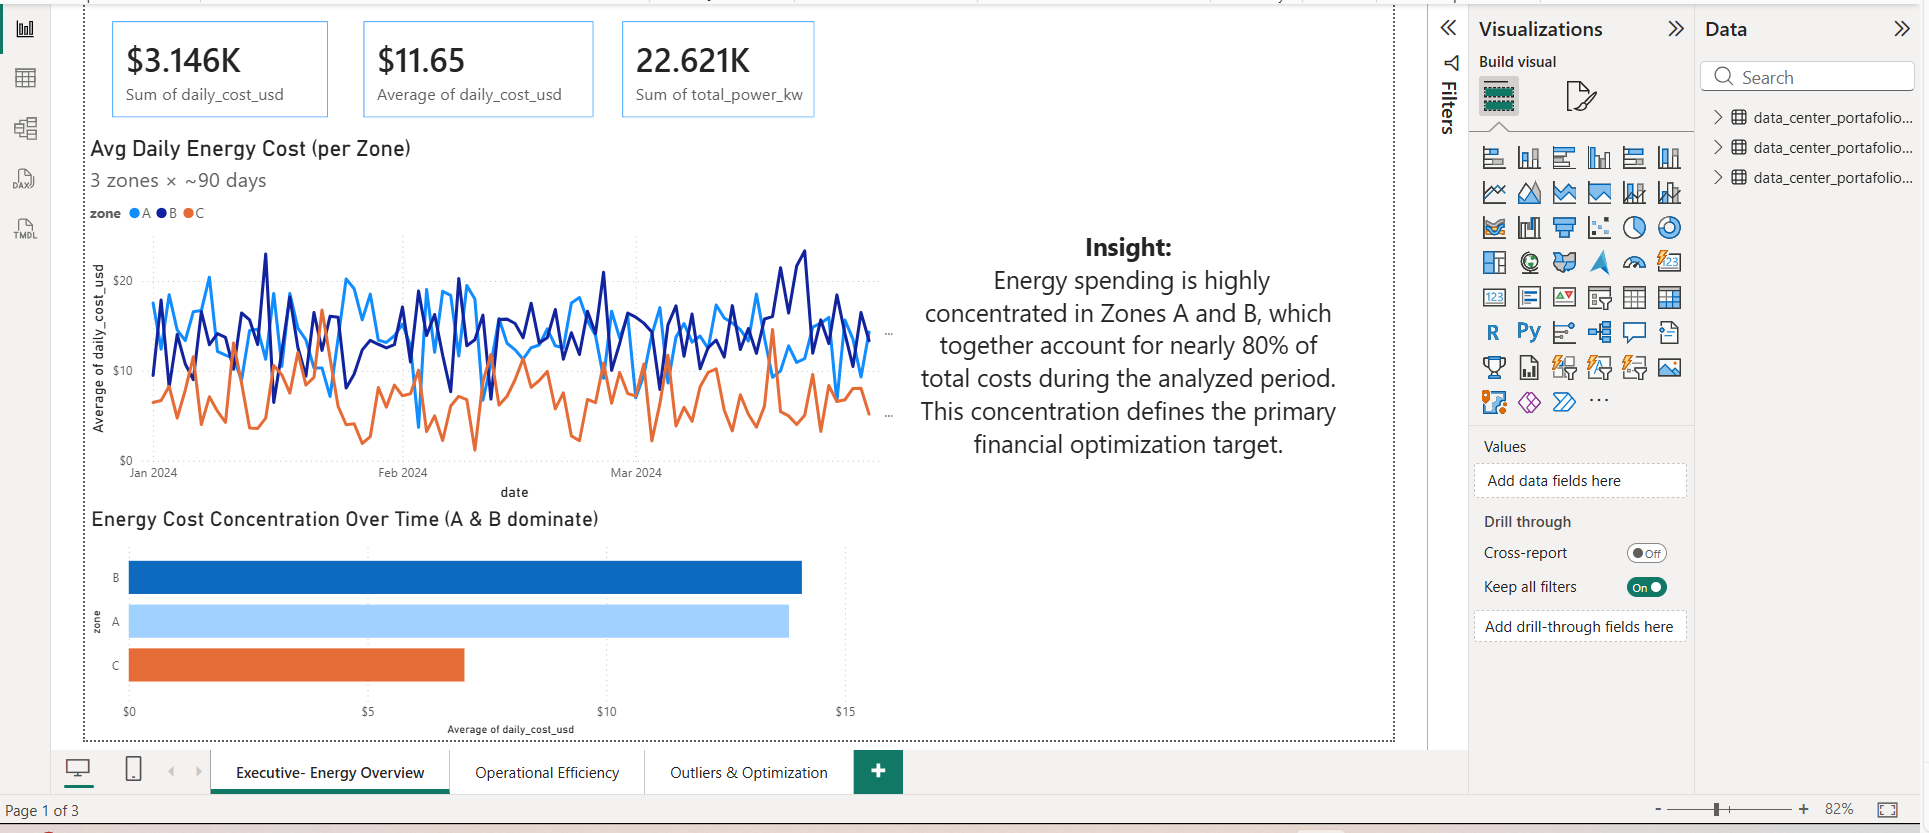

The page's visual inventory and layout, read from the dashboard file:
{"tool":"powerbi","page":{"name":"Executive- Energy Overview","canvas":[1280,720],"ordinal":0},"visuals":[{"type":"cardVisual","fields":{"Data":["Sum(data_center_portafolio vw_kpi_daily_energy_cost.daily_cost_usd)"]},"box":[9.6,0,245.6,129],"z":0},{"type":"cardVisual","fields":{"Data":["Avg(data_center_portafolio vw_kpi_daily_energy_cost.daily_cost_usd)"]},"box":[255.2,0,259.3,129],"z":1000},{"type":"cardVisual","fields":{"Data":["Sum(data_center_portafolio vw_kpi_daily_energy_cost.total_power_kw)"]},"box":[509.1,0,222.3,129],"z":2000},{"type":"lineChart","title":"Avg Daily Energy Cost (per Zone)","fields":{"Y":["Avg(data_center_portafolio vw_kpi_daily_energy_cost.daily_cost_usd)"],"Series":["data_center_portafolio vw_kpi_daily_energy_cost.zone"],"Category":["data_center_portafolio vw_kpi_daily_energy_cost.date"]},"box":[0,129,805.5,362.3],"z":3000},{"type":"clusteredBarChart","title":"Energy Cost Concentration Over Time (A & B dominate)","fields":{"Category":["data_center_portafolio vw_kpi_daily_energy_cost.zone"],"Y":["Avg(data_center_portafolio vw_kpi_daily_energy_cost.daily_cost_usd)"]},"box":[1.4,491.3,804.1,229.2],"z":4000},{"type":"textbox","box":[805.5,216.8,429.5,255.2],"z":5000}]}

Visuals, with their boxes on the page's 1280x720 design canvas (x1, y1, x2, y2). These are canvas units, not pixel positions in the 1929x833 screenshot, which may show the page scaled, cropped or inside an application window:
cardVisual - Sum(data_center_portafolio vw_kpi_daily_energy_cost.daily_cost_usd): {"x1": 10, "y1": 0, "x2": 255, "y2": 129}
cardVisual - Avg(data_center_portafolio vw_kpi_daily_energy_cost.daily_cost_usd): {"x1": 255, "y1": 0, "x2": 514, "y2": 129}
cardVisual - Sum(data_center_portafolio vw_kpi_daily_energy_cost.total_power_kw): {"x1": 509, "y1": 0, "x2": 731, "y2": 129}
"Avg Daily Energy Cost (per Zone)" lineChart: {"x1": 0, "y1": 129, "x2": 806, "y2": 491}
"Energy Cost Concentration Over Time (A & B dominate)" clusteredBarChart: {"x1": 1, "y1": 491, "x2": 806, "y2": 720}
textbox: {"x1": 806, "y1": 217, "x2": 1235, "y2": 472}
